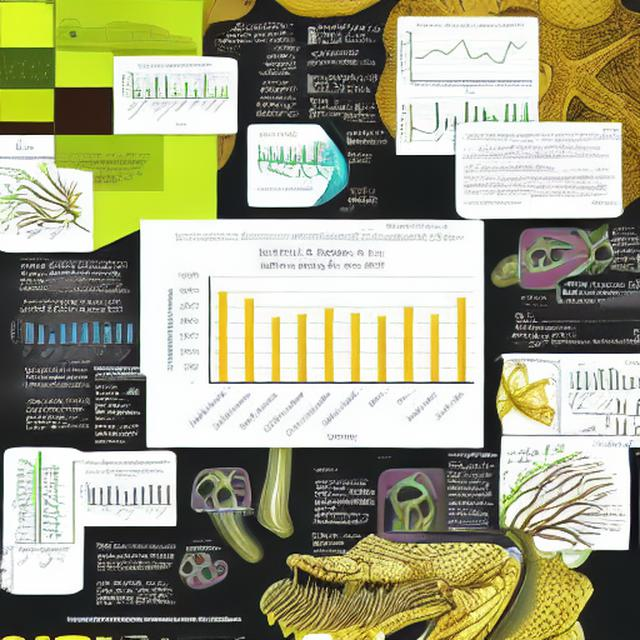Graph: (165, 257, 479, 444), (397, 21, 534, 94), (5, 295, 139, 367), (117, 60, 234, 130), (76, 468, 174, 523)
